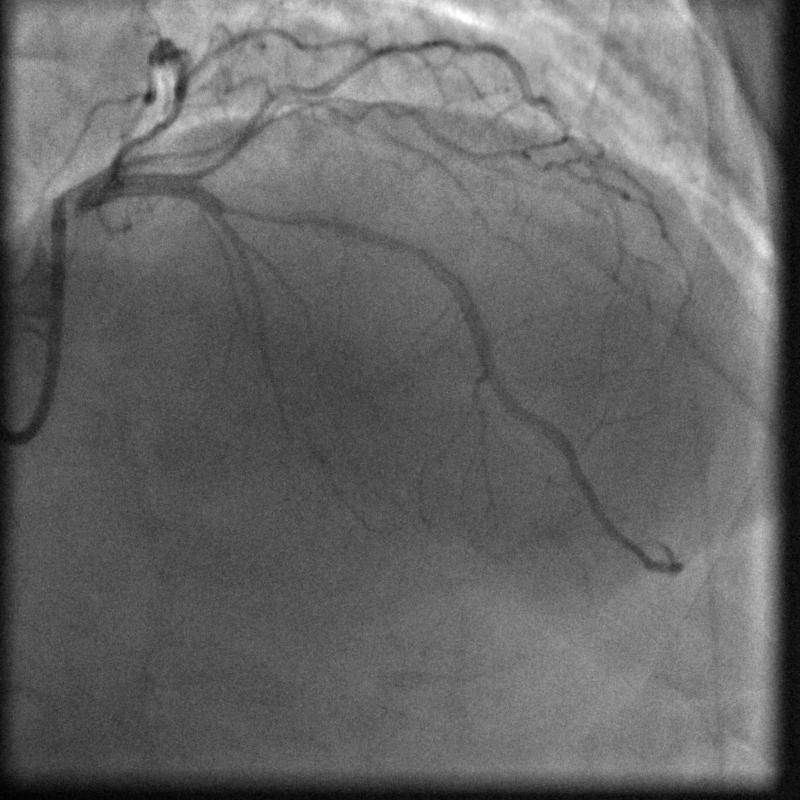Stenosis: (245, 190, 303, 233)
